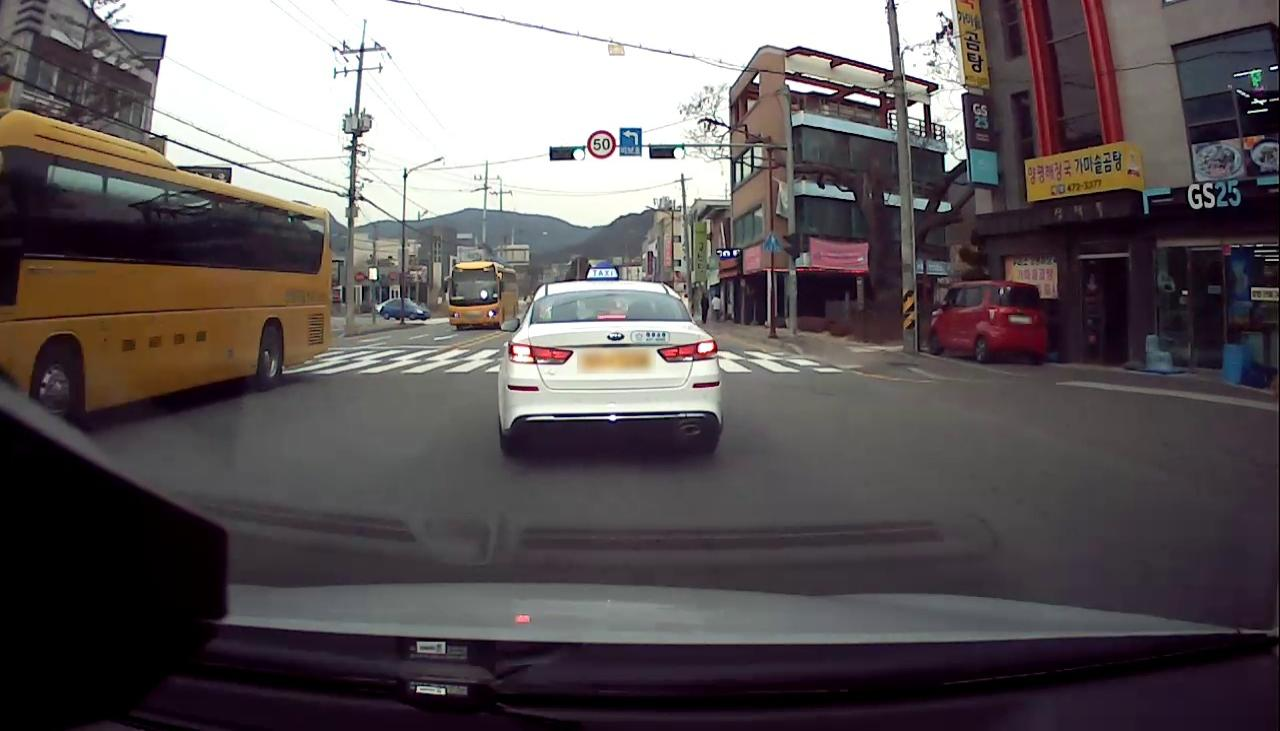Green Light: (670, 144, 687, 161), (571, 146, 586, 162)
